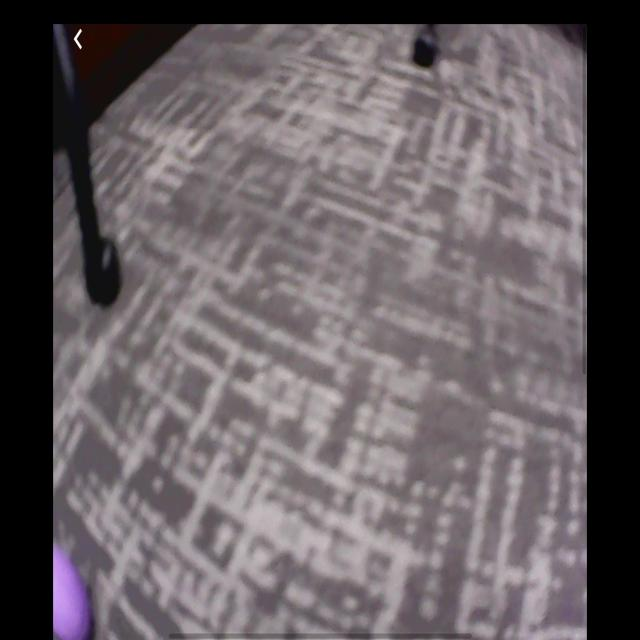ball: (55, 544, 90, 639)
